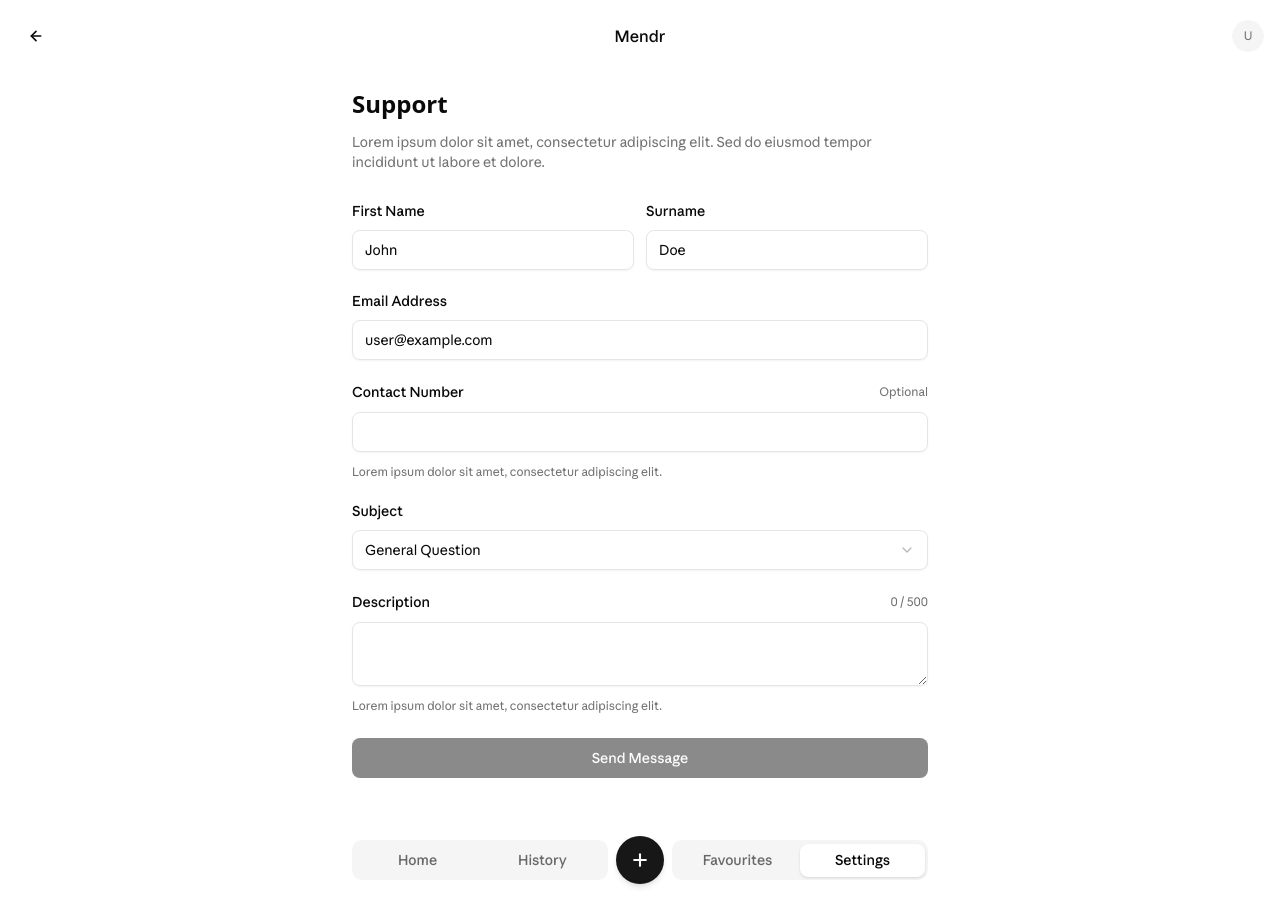
Scenario: settings/support/client.tsx › shows "Message Sent" success state after successful submission
This screenshot has width=1280, height=900.
Step 1. Type "Hello, I need help." into the text box labelled "Description" → x=640, y=654, box [352,622,928,686]
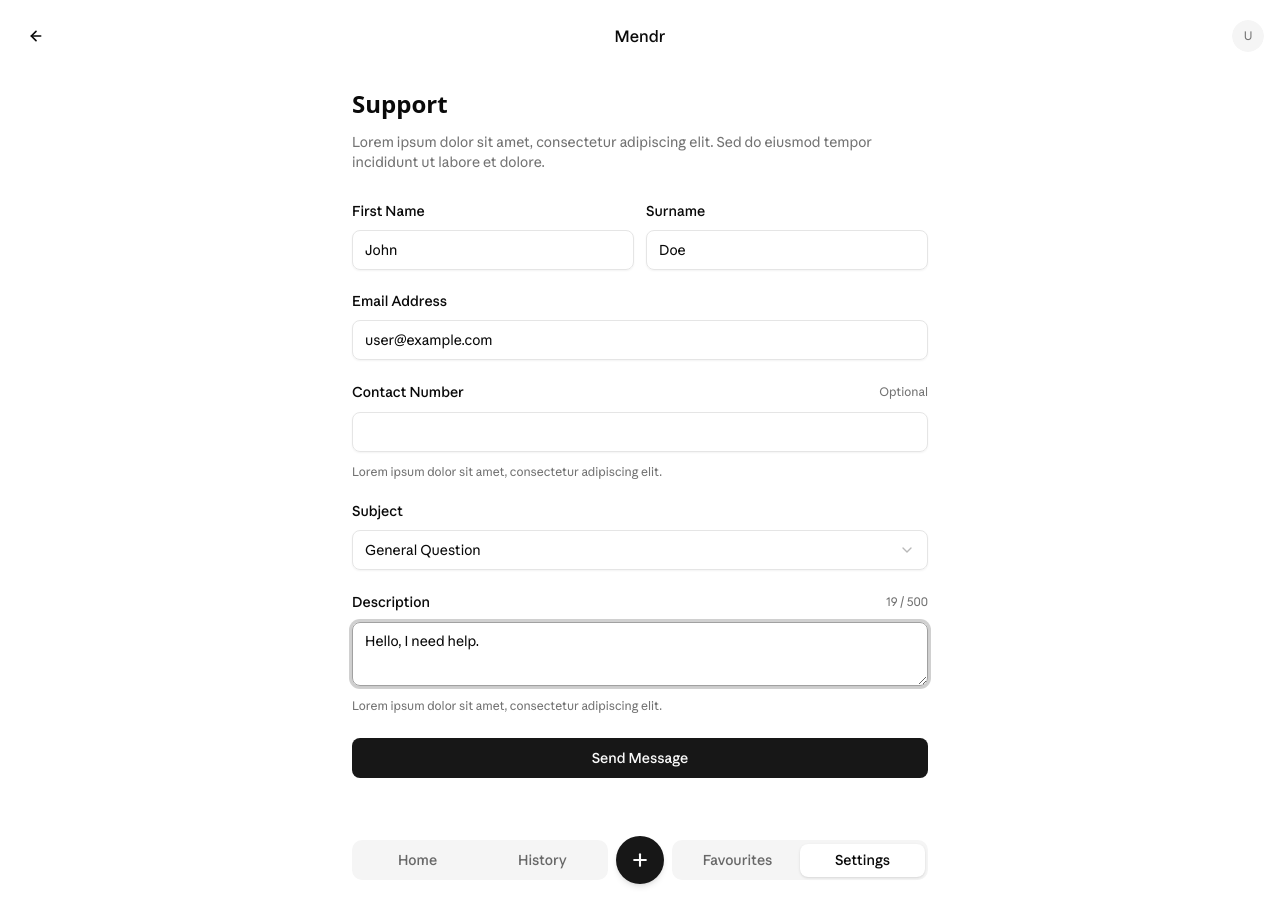
Step 2. Click the button "Send Message" → x=640, y=758, box [352,738,928,778]
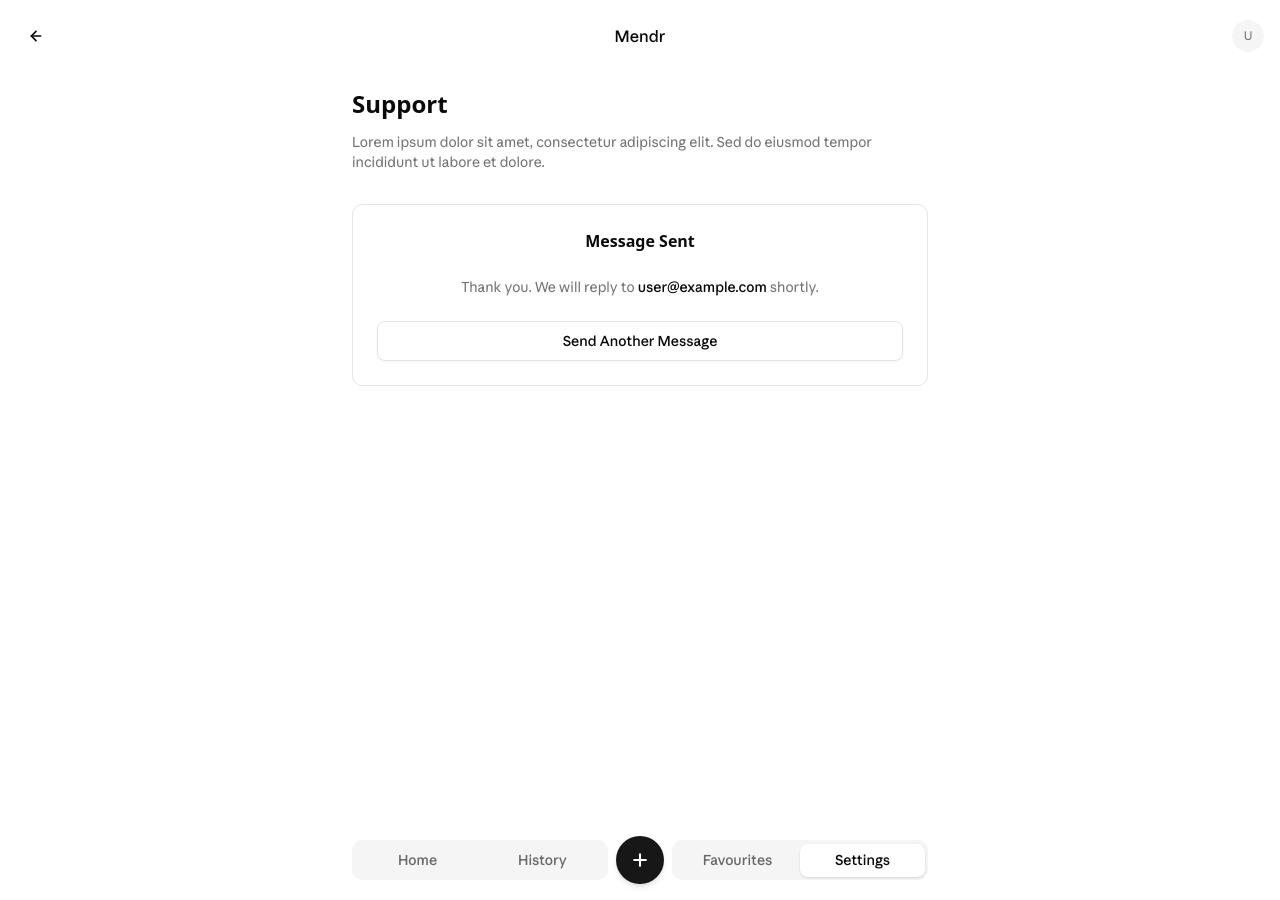
Result: the heading "Message Sent" is shown at [585,230,695,252]
